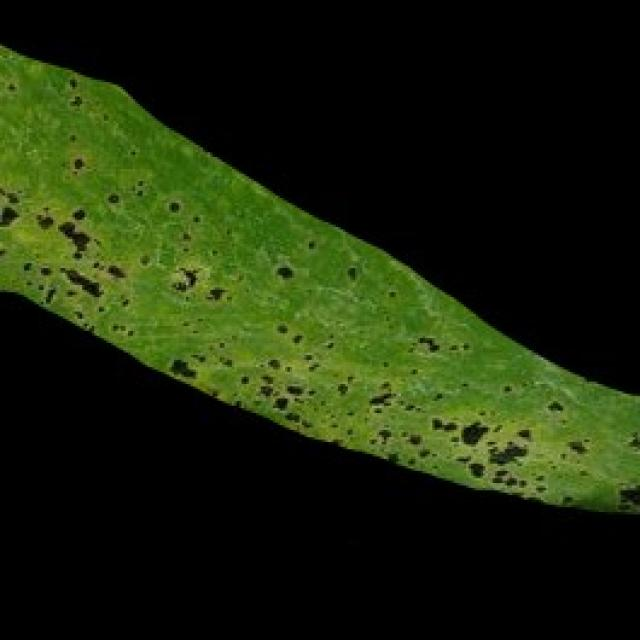mite: (459, 418, 488, 444), (167, 355, 196, 379), (270, 258, 295, 283), (541, 394, 565, 418), (0, 200, 19, 227), (565, 435, 587, 454), (34, 210, 53, 229), (466, 459, 485, 478), (205, 283, 225, 299), (543, 398, 563, 413)
spots: (0, 2, 638, 524)
